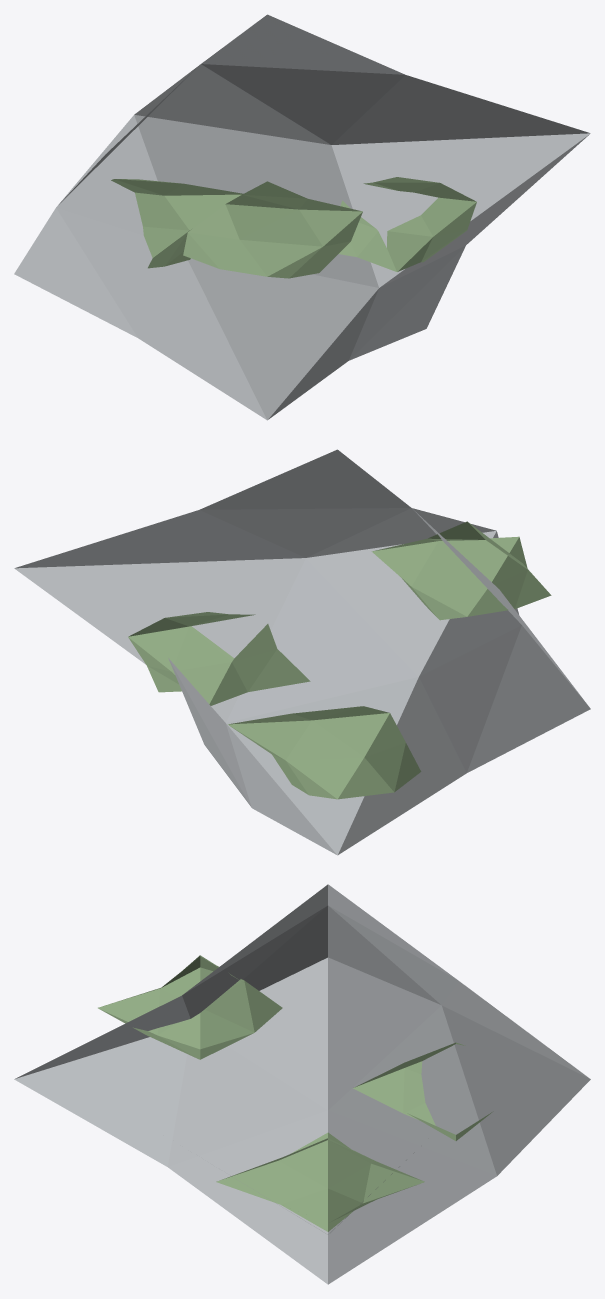
File: moss_rock_v34.glb
3 views of the same model, one above another, from view 1: azimuth 30°, elevation 25°; view 2: azimuth 150°, elevation 25°; view 3: azimuth 270°, elevation 25° (orthographic).
Parts seen in each view (by area): view 1: lod0; view 2: lod0; view 3: lod0.
Part boxes in pixels (box(x1,y1,x2,y2)): lod0: box(14, 14, 590, 420); lod0: box(14, 449, 590, 855); lod0: box(14, 884, 590, 1284).
Size of what is drawn, in the model's own units: 1.67 by 1.12 by 1.46.
